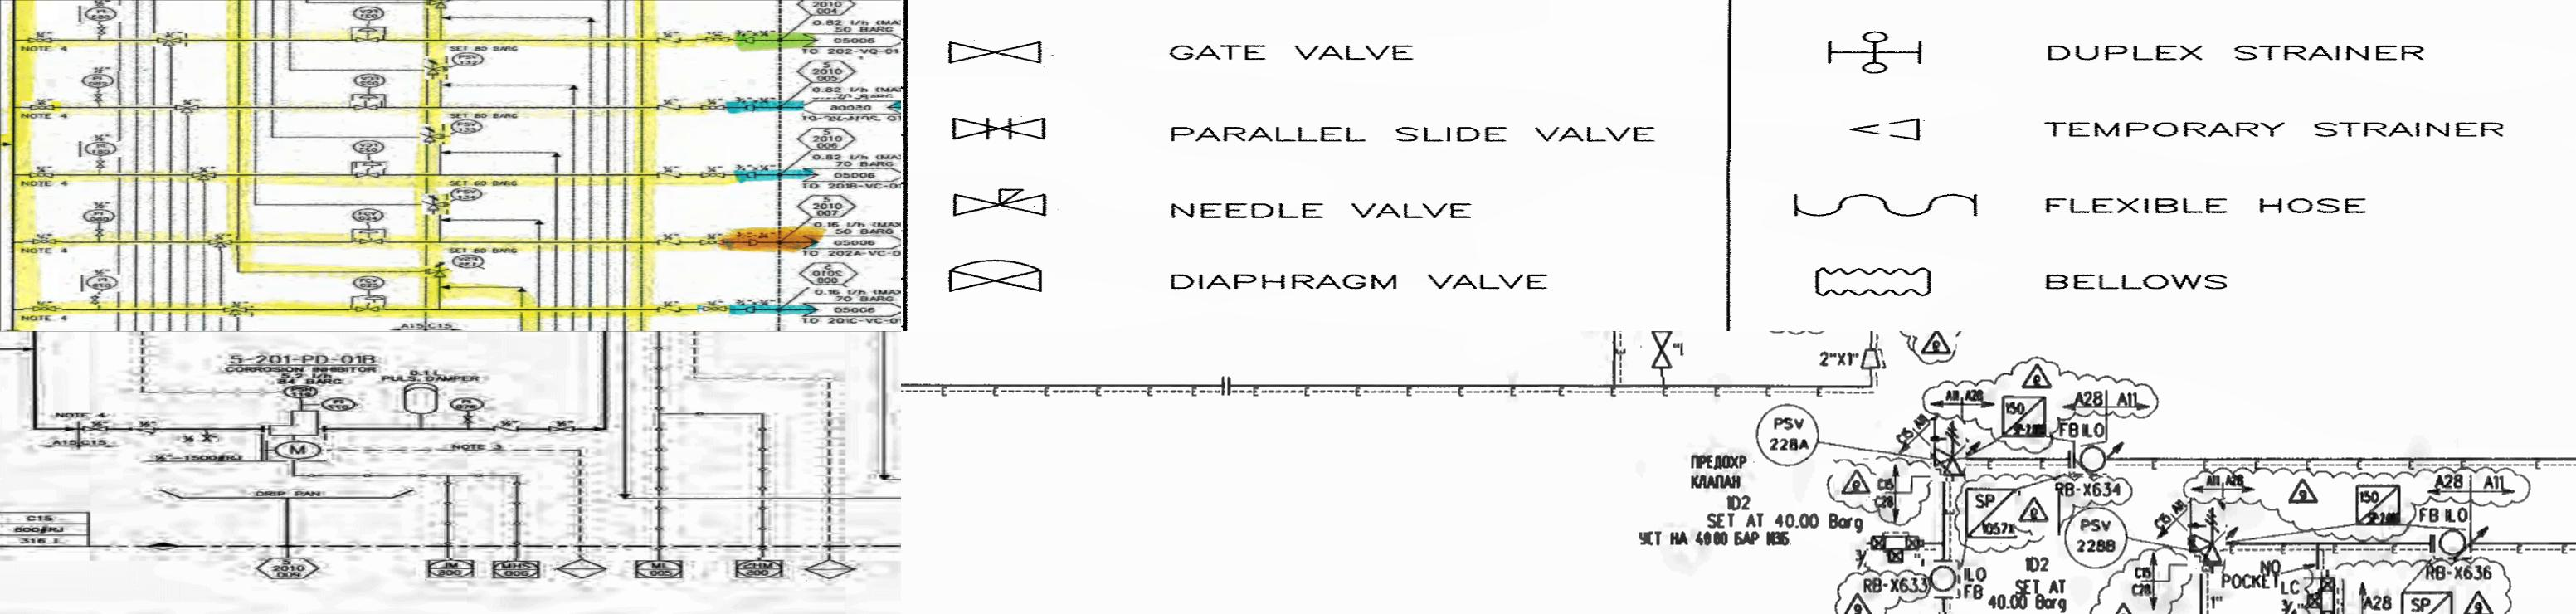2 WAY VALVE: (1866, 530, 1925, 566), (2303, 570, 2341, 614)
3 WAY GENERAL VALVE: (204, 236, 238, 251), (189, 167, 222, 182), (151, 33, 187, 46), (172, 102, 207, 115), (218, 305, 256, 317)
ANGLE RELIEF VALVE: (2188, 497, 2226, 573), (1930, 420, 1966, 483), (419, 125, 450, 146), (424, 56, 450, 80), (422, 194, 452, 213), (421, 263, 448, 281)
BELLOWS: (905, 264, 1037, 297)
CONCENTRIC REDUCER: (1855, 343, 1891, 376)
DUPLEX STRAINER: (913, 30, 1032, 76)
END CAP: (739, 302, 762, 317), (352, 25, 383, 34), (741, 167, 761, 181), (356, 92, 386, 100), (744, 102, 762, 115), (356, 227, 384, 235), (743, 236, 762, 248), (355, 161, 386, 167), (358, 296, 383, 304), (741, 36, 759, 46)
FIELD INSTRUMENT: (2063, 507, 2131, 573), (1753, 404, 1820, 468), (2073, 440, 2108, 478), (1927, 558, 1960, 596), (2440, 524, 2469, 558), (77, 207, 123, 225), (77, 71, 123, 89), (79, 274, 122, 292), (77, 5, 123, 21), (348, 138, 389, 156), (347, 208, 391, 225), (77, 141, 122, 158), (350, 71, 389, 89), (348, 274, 388, 291), (448, 187, 491, 202), (350, 5, 388, 21), (452, 51, 488, 67), (450, 253, 486, 269), (450, 118, 485, 135)
FLEXIBLE HOSE: (900, 187, 1083, 222)
GATE VALVE: (1641, 332, 1684, 378), (350, 100, 384, 110), (353, 169, 388, 179), (353, 34, 386, 44), (350, 305, 386, 314), (353, 238, 388, 246), (89, 90, 107, 103), (92, 227, 108, 240), (89, 294, 107, 305), (90, 159, 108, 171), (92, 25, 108, 34)
GLOBE VALVE: (693, 167, 731, 181), (21, 169, 62, 181), (695, 34, 733, 46), (21, 102, 62, 112), (20, 34, 59, 44), (693, 102, 733, 112), (700, 236, 731, 248), (23, 238, 61, 246), (23, 305, 61, 314), (698, 305, 731, 314)
NO ACCESS INDICATOR: (790, 259, 864, 287), (793, 57, 861, 85), (795, 125, 858, 153), (795, 194, 859, 220)
PIPE CONNECTION FLAG: (800, 230, 900, 254), (797, 164, 900, 187), (793, 300, 900, 322), (803, 97, 900, 120), (797, 28, 900, 49)
REVISION TRIANGLE: (2016, 491, 2060, 535), (1833, 458, 1876, 501), (1912, 332, 1955, 373), (2014, 356, 2058, 396), (1833, 581, 1884, 614), (2461, 581, 2497, 614)
SELF ACTING VALVE: (2275, 473, 2338, 515)
SPECIAL PIPING ITEM: (1960, 483, 2026, 545), (2349, 479, 2408, 532), (1998, 391, 2052, 445), (2392, 583, 2459, 614)
TEMPORARY STRAINER: (941, 115, 1028, 143)
